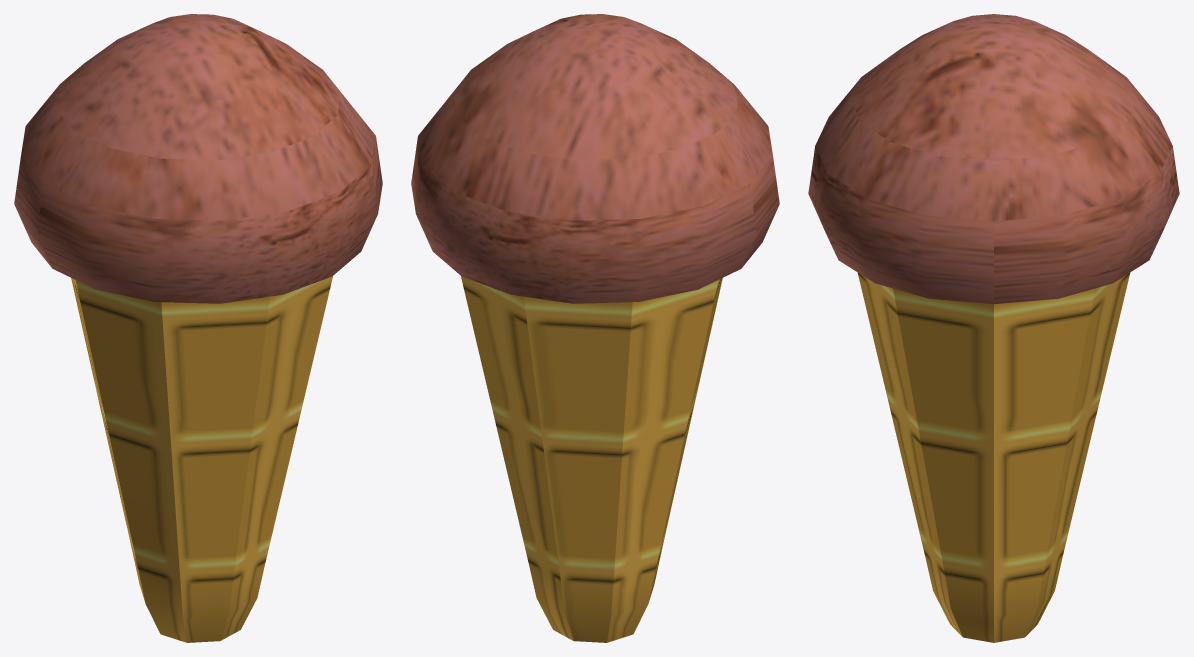
Rendered from IceCreamD.fbx.
3 renders of one model, left to right at view 1: azimuth 30°, elevation 25°; view 2: azimuth 150°, elevation 25°; view 3: azimuth 270°, elevation 25°, orthographic.
Parts seen in each view (by area): view 1: IceCreamD, IceCreamCorn_D; view 2: IceCreamD, IceCreamCorn_D; view 3: IceCreamD, IceCreamCorn_D.
Part boxes in pixels (x1,y1,x2,y2): IceCreamD: (14, 14, 382, 303); IceCreamCorn_D: (71, 276, 332, 642); IceCreamD: (411, 14, 779, 303); IceCreamCorn_D: (461, 276, 722, 642); IceCreamD: (808, 14, 1179, 304); IceCreamCorn_D: (857, 273, 1130, 642).
Bounding box in the file's own units: 106 × 192 × 106.
